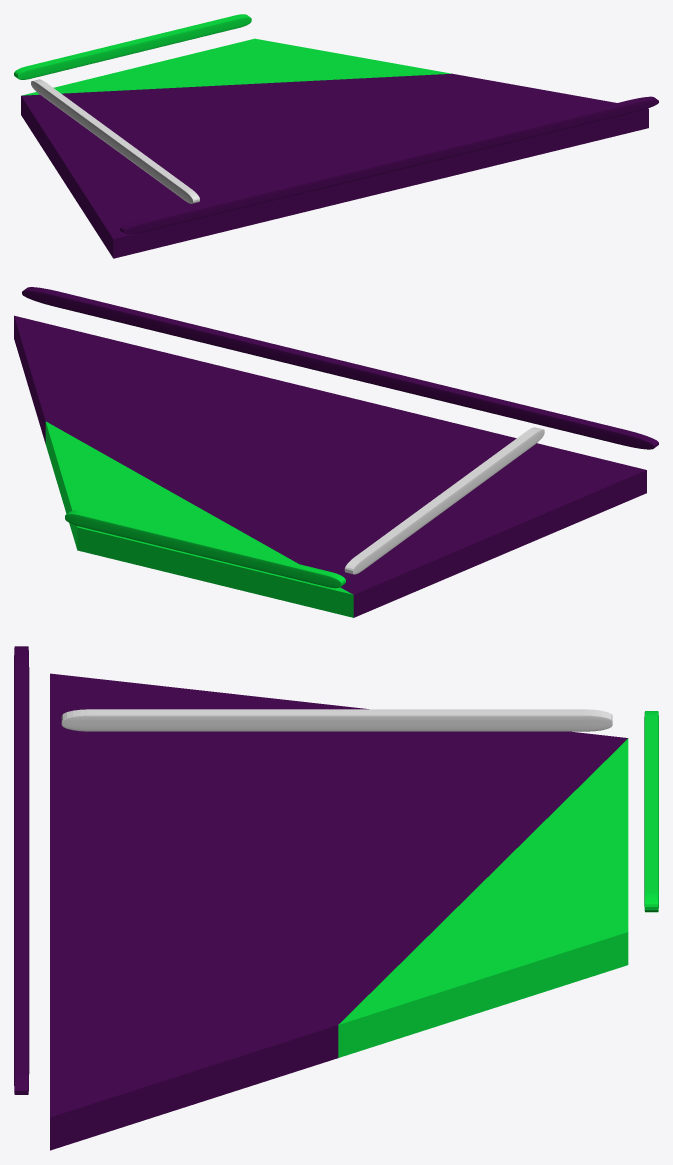
File: trapezium_archipluvian.gltf
3 renders of one model, top to bottom at view 1: azimuth 30°, elevation 25°; view 2: azimuth 150°, elevation 25°; view 3: azimuth 270°, elevation 25°, orthographic. The views are drawn at different scales.
Visible parts, largest first — view 1: Triangle, ExtraTr, Plane.001, Plane.002; view 2: Triangle, ExtraTr, Plane.001, Plane.002; view 3: Triangle, ExtraTr, Plane.002, Plane.001.
Boxes of the visible parts, left/top/right/bottom form: Triangle: left=21, top=73, right=648, bottom=258; ExtraTr: left=14, top=14, right=450, bottom=95; Plane.001: left=120, top=96, right=658, bottom=234; Plane.002: left=31, top=79, right=199, bottom=203; Triangle: left=14, top=315, right=646, bottom=617; ExtraTr: left=45, top=421, right=353, bottom=617; Plane.001: left=22, top=287, right=658, bottom=449; Plane.002: left=344, top=427, right=544, bottom=574; Triangle: left=50, top=673, right=627, bottom=1150; ExtraTr: left=338, top=711, right=658, bottom=1057; Plane.002: left=61, top=709, right=612, bottom=731; Plane.001: left=14, top=646, right=29, bottom=1094.
Size of the model in its own units: 14.38 by 1 by 8.83.
